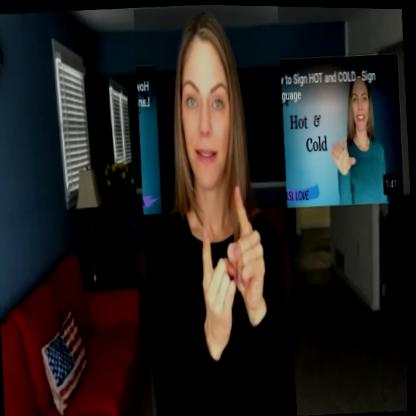NiceToMeetYou: (126, 2, 306, 416)
